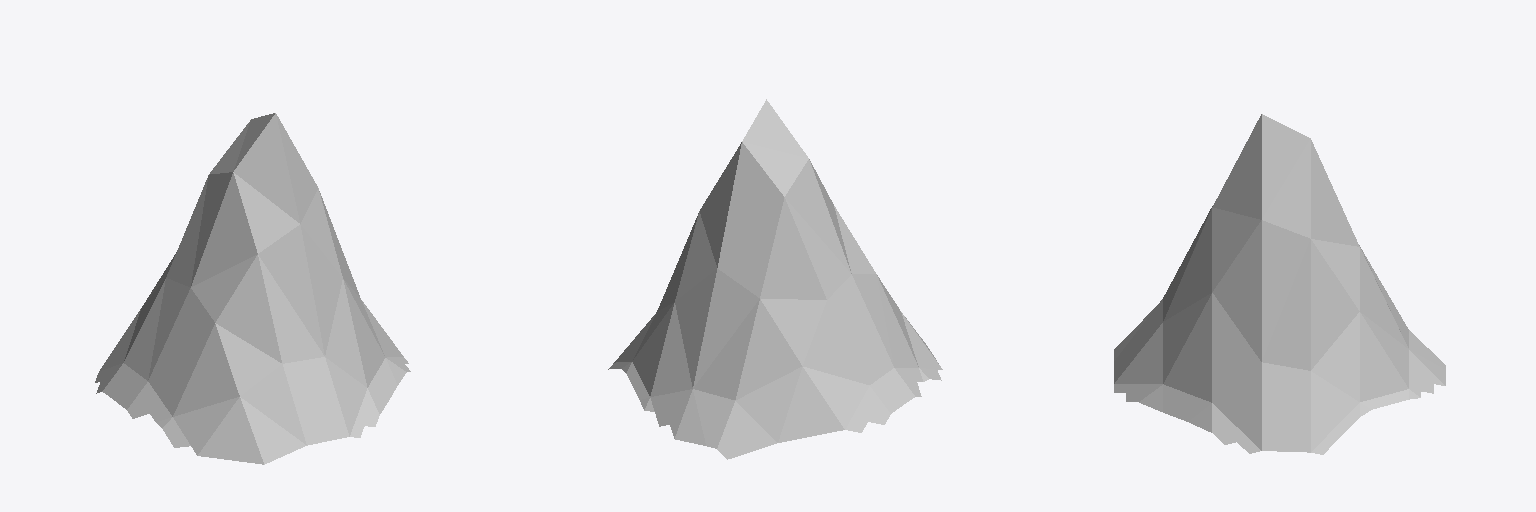
File: tree_30.obj
3 views of the same model, side by side, from view 1: azimuth 30°, elevation 25°; view 2: azimuth 150°, elevation 25°; view 3: azimuth 270°, elevation 25° (orthographic).
Visible parts, largest first — view 1: tree_30; view 2: tree_30; view 3: tree_30.
Boxes of the visible parts, box(x1,y1,x2,y2) form: tree_30: box(95, 113, 410, 464); tree_30: box(608, 99, 942, 459); tree_30: box(1114, 114, 1445, 454).
Bounding box in the file's own units: 6.5 × 6.62 × 6.75.